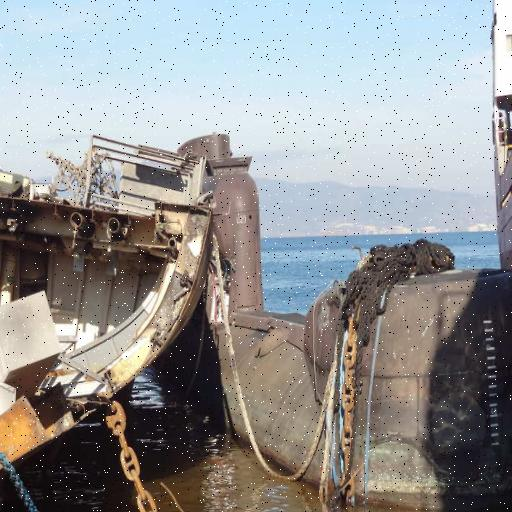submarine: (182, 124, 512, 505)
